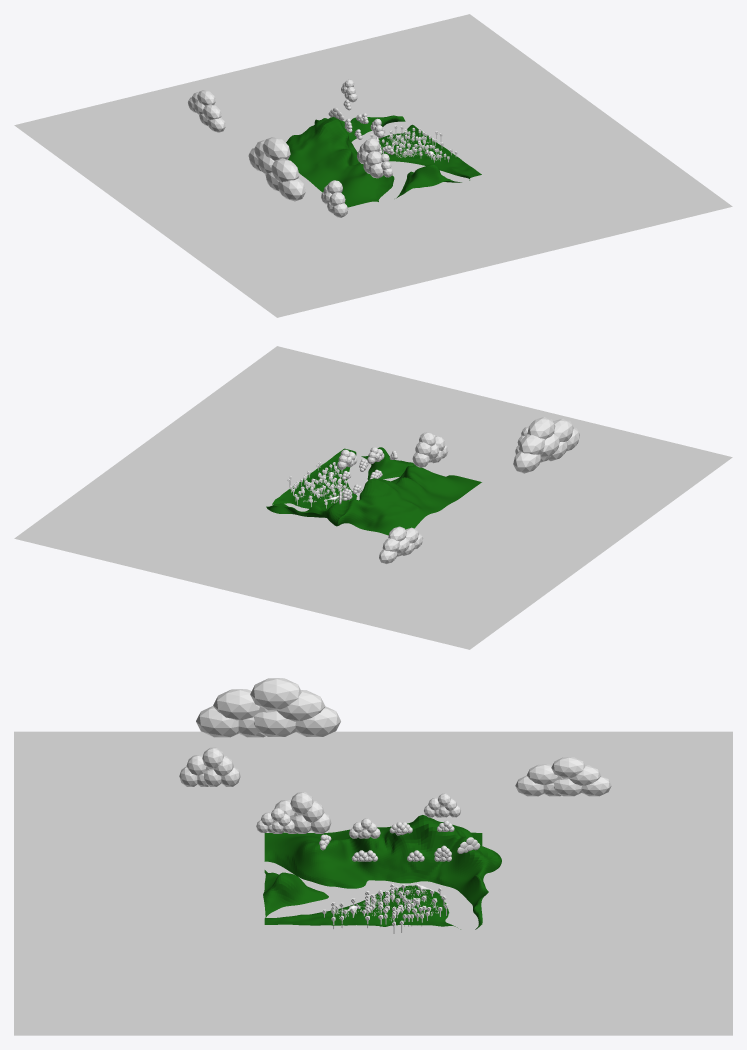
Rendered from dnisland.glb.
3 renders of one model, top to bottom at view 1: azimuth 30°, elevation 25°; view 2: azimuth 150°, elevation 25°; view 3: azimuth 270°, elevation 25°, orthographic. The views are drawn at different scales.
Parts seen in each view (by area): view 1: Plane.001, Plane, Cloud.001, tree.001; view 2: Plane.001, Plane, Cloud.001, tree.001; view 3: Plane.001, Plane, Cloud.001, tree.001.
Boxes of the visible parts, <box> form: Plane.001: <box>14,14,732,317</box>; Plane: <box>286,115,481,207</box>; Cloud.001: <box>188,79,394,217</box>; tree.001: <box>370,125,457,162</box>; Plane.001: <box>14,346,732,649</box>; Plane: <box>266,447,481,535</box>; Cloud.001: <box>337,417,579,563</box>; tree.001: <box>287,461,347,508</box>; Plane.001: <box>14,731,732,1035</box>; Plane: <box>263,815,501,929</box>; Cloud.001: <box>179,678,611,861</box>; tree.001: <box>322,884,448,933</box>.
Bounding box in the file's own units: 1526 × 313 × 1526.
